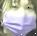with_mask: (1, 2, 37, 36)
